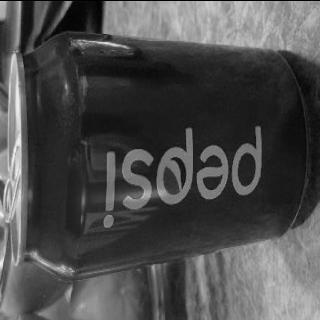alumunium_can: (2, 29, 318, 283)
